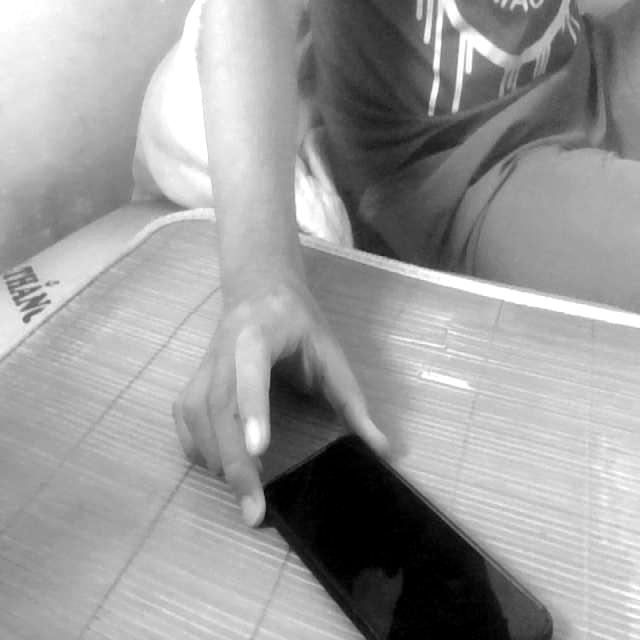phone: (233, 404, 565, 640)
